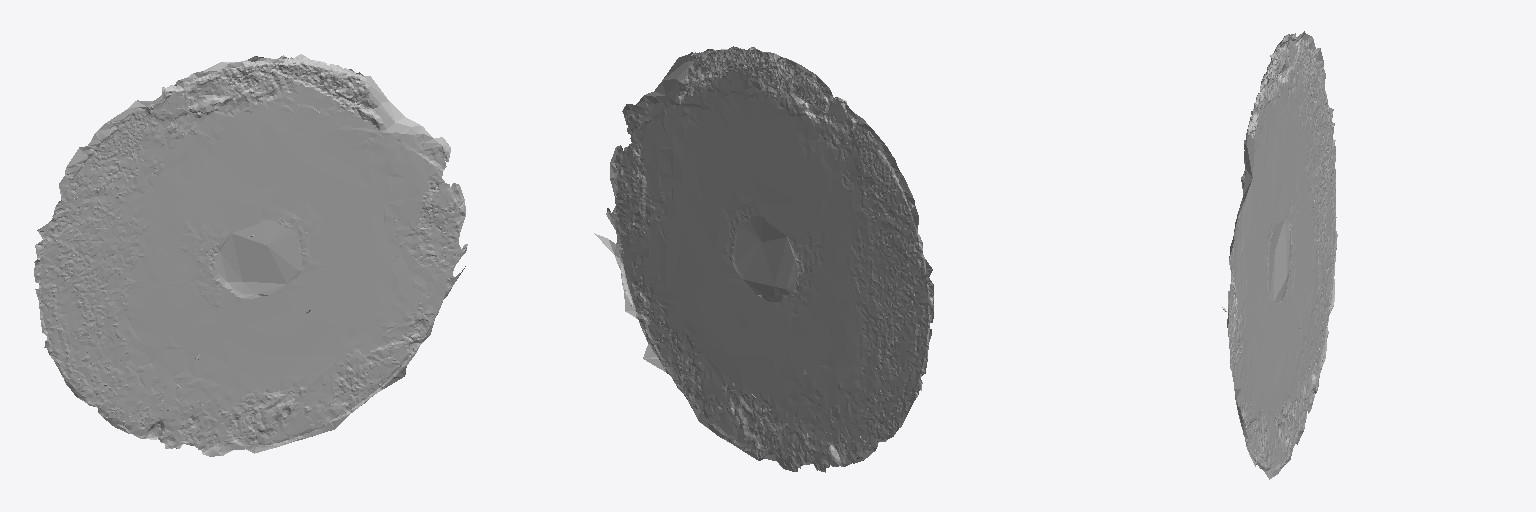
File: Model Take 1 (Bad Version).obj
3 views of the same model, side by side, from view 1: azimuth 30°, elevation 25°; view 2: azimuth 150°, elevation 25°; view 3: azimuth 270°, elevation 25° (orthographic).
Bounding box in the file's own units: 4.09 × 4.07 × 1.06.